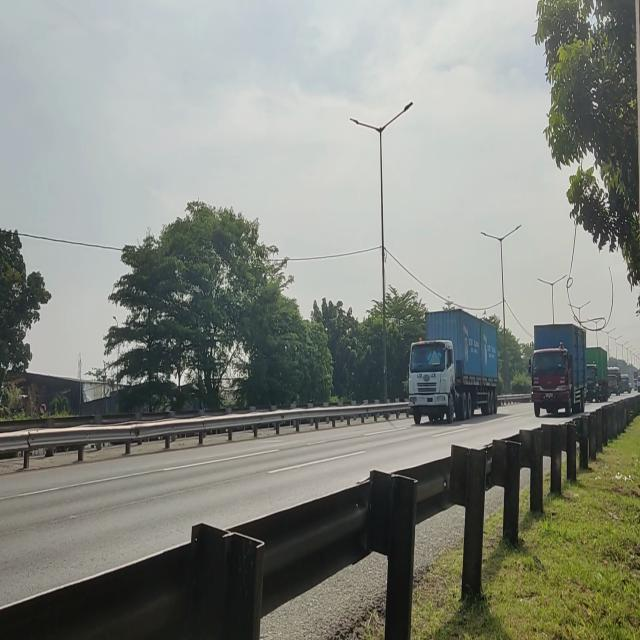Golongan V: (406, 308, 500, 428)
